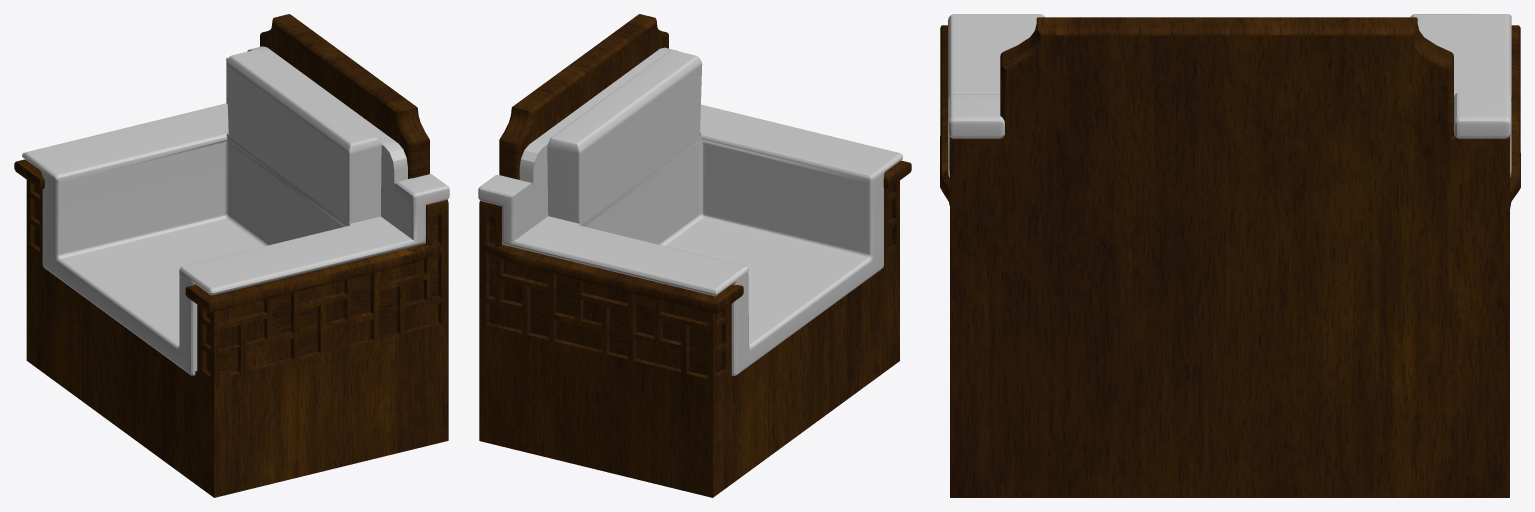
The model's file is Sofa.fbx.
3 views of the same model, side by side, from view 1: azimuth 30°, elevation 25°; view 2: azimuth 150°, elevation 25°; view 3: azimuth 270°, elevation 25° (orthographic). The views are drawn at different scales.
Parts seen in each view (by area): view 1: pCube2, polySurface3; view 2: pCube2, polySurface3; view 3: pCube2, polySurface3.
Boxes of the visible parts, x1,y1,x2,y2 form: pCube2: [14, 14, 448, 497]; polySurface3: [22, 46, 449, 375]; pCube2: [479, 14, 911, 497]; polySurface3: [478, 47, 902, 376]; pCube2: [940, 17, 1520, 497]; polySurface3: [948, 14, 1511, 177].
Bounding box in the file's own units: 9.27 × 11.33 × 12.77.
